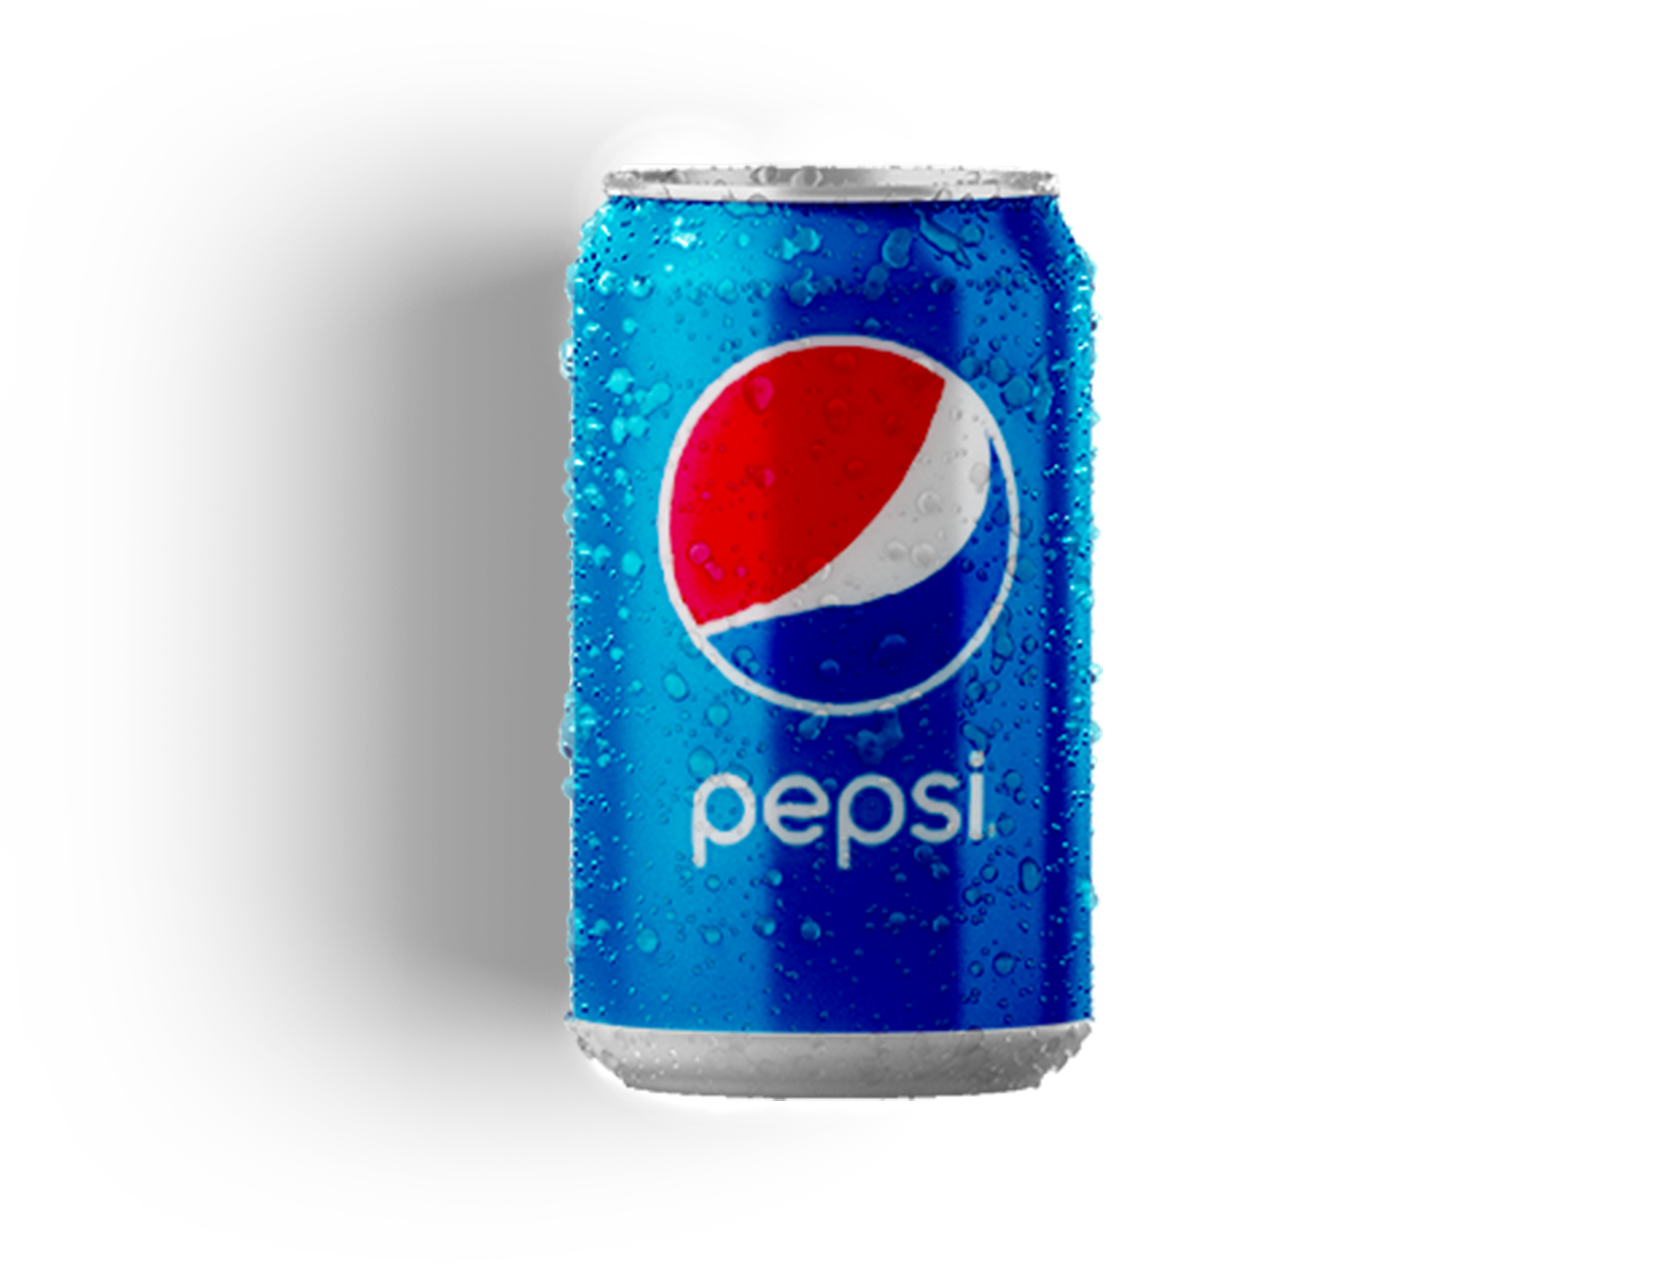pepsi: (656, 332, 1020, 720), (666, 332, 1020, 720), (666, 339, 1020, 720)
